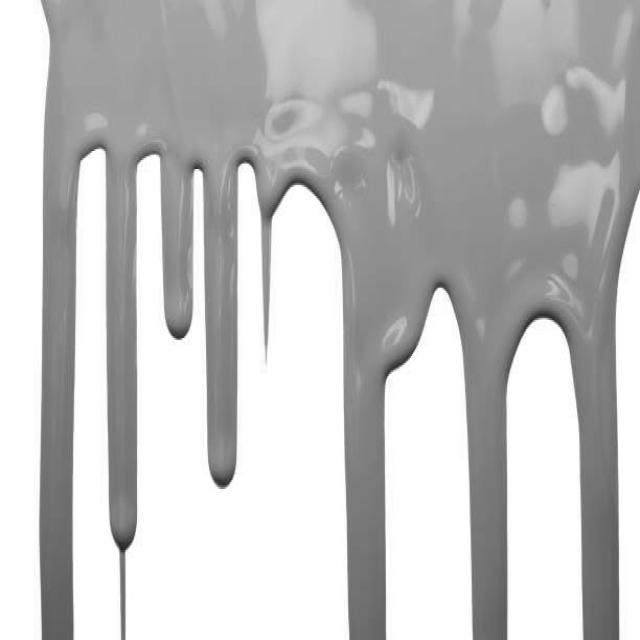paint drips: (301, 152, 640, 640), (35, 55, 300, 640)
